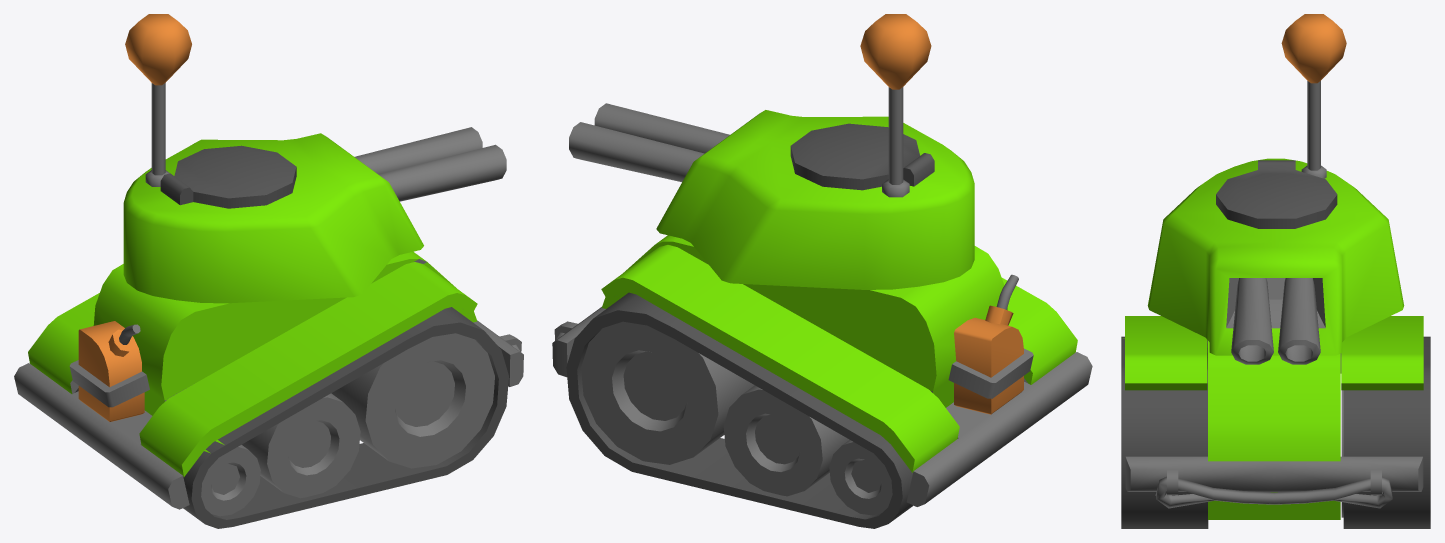
File: Tank1_w.fbx
3 renders of one model, left to right at view 1: azimuth 30°, elevation 25°; view 2: azimuth 150°, elevation 25°; view 3: azimuth 270°, elevation 25°, orthographic. The views are drawn at different scales.
Parts seen in each view (by area): view 1: Tank_01, Tank_Top_01, Antenna, Jerrycan; view 2: Tank_01, Tank_Top_01, Antenna, Jerrycan; view 3: Tank_01, Tank_Top_01, Antenna.
Boxes of the visible parts, left/top/right/bottom form: Tank_01: left=14, top=251, right=523, bottom=528; Tank_Top_01: left=123, top=127, right=506, bottom=303; Antenna: left=125, top=14, right=191, bottom=186; Jerrycan: left=78, top=321, right=144, bottom=421; Tank_01: left=552, top=235, right=1092, bottom=528; Tank_Top_01: left=569, top=103, right=974, bottom=289; Antenna: left=860, top=14, right=931, bottom=197; Jerrycan: left=954, top=274, right=1023, bottom=414; Tank_01: left=1121, top=316, right=1430, bottom=528; Tank_Top_01: left=1147, top=158, right=1404, bottom=364; Antenna: left=1281, top=14, right=1346, bottom=178.
Bounding box in the file's own units: 60.62 × 61.65 × 41.68.
